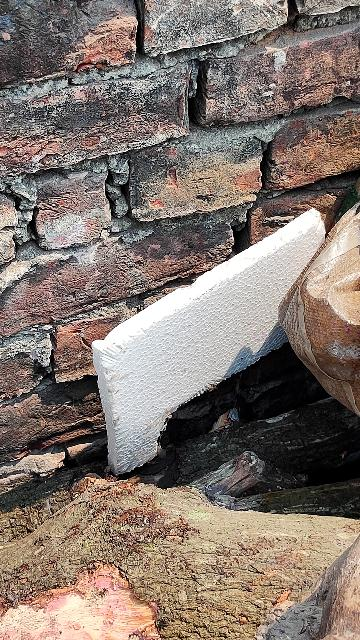cocksheet: (85, 191, 341, 485)
